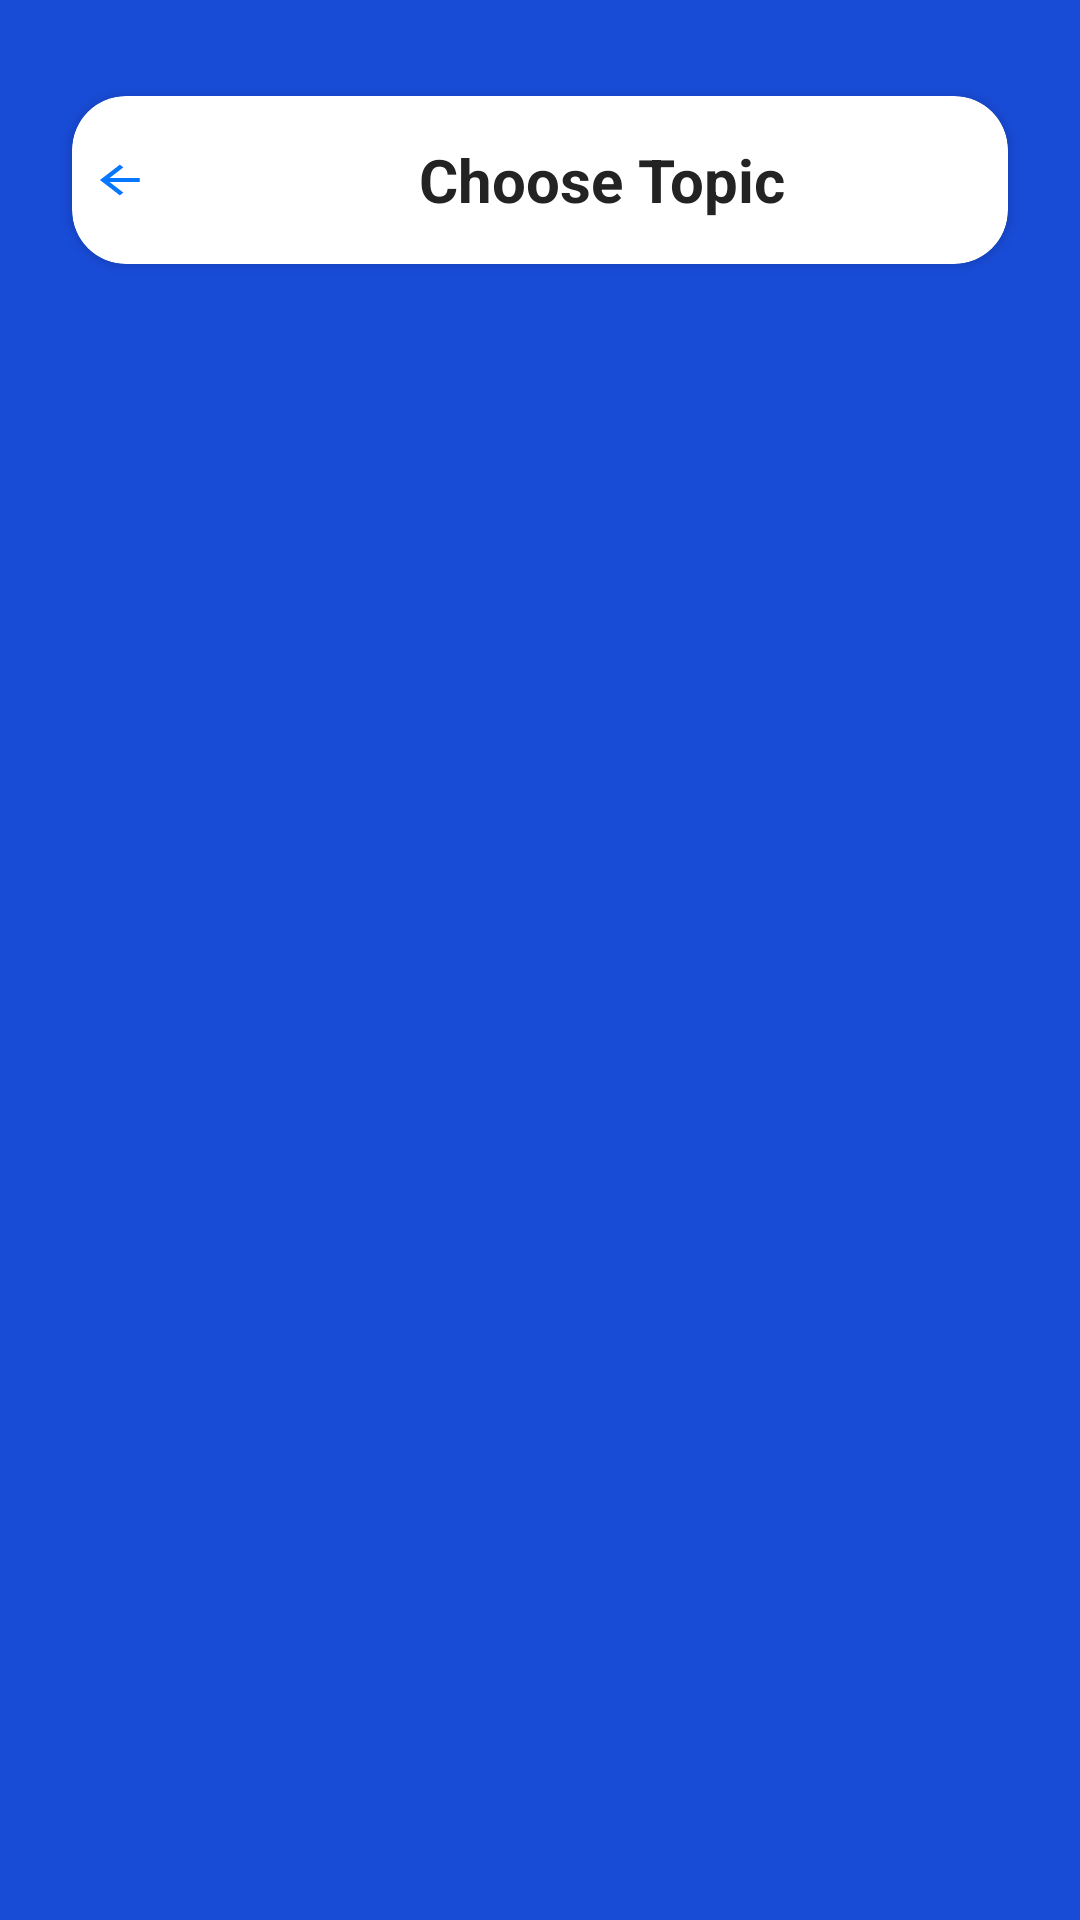

Point at icon controls on the screen. Image size 1080x1920, points as [x,y].
back arrow: [133,180]
